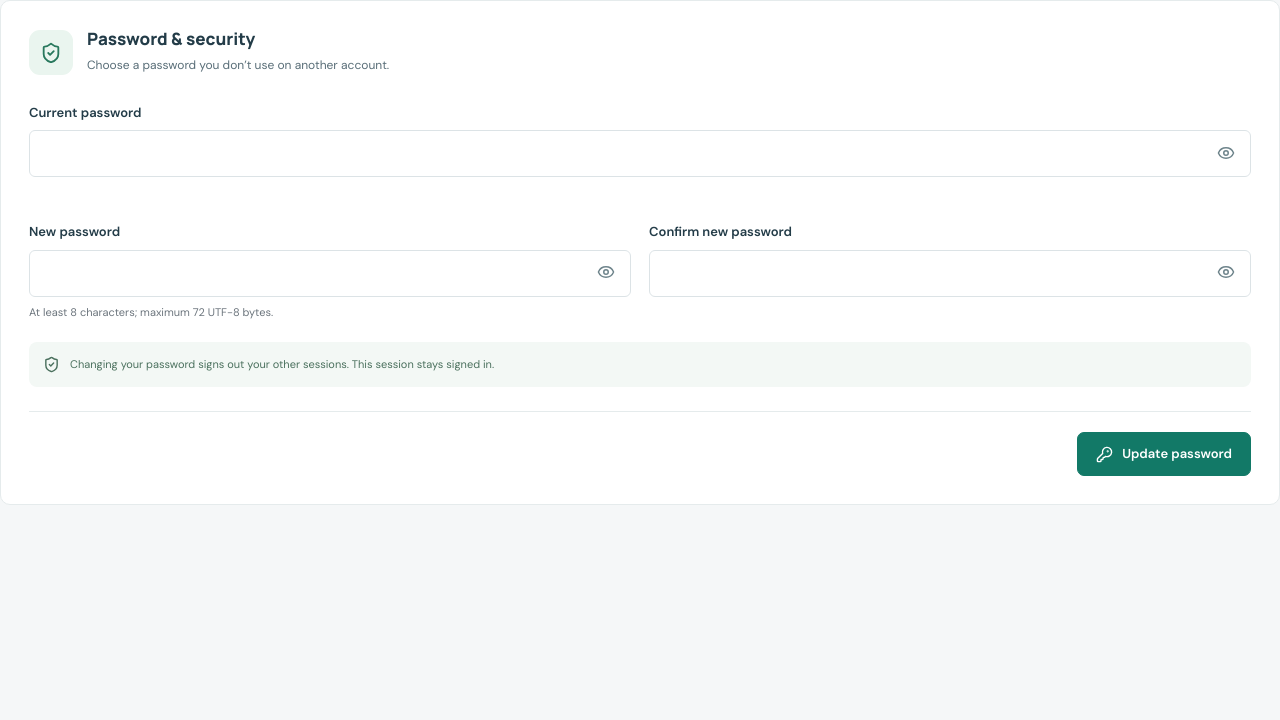
it: Personal details and account security forms › clears password fields after success and shows confirmation
In the password field labelled "Current password": (640, 154) [29,130,1251,177], type "current-password"
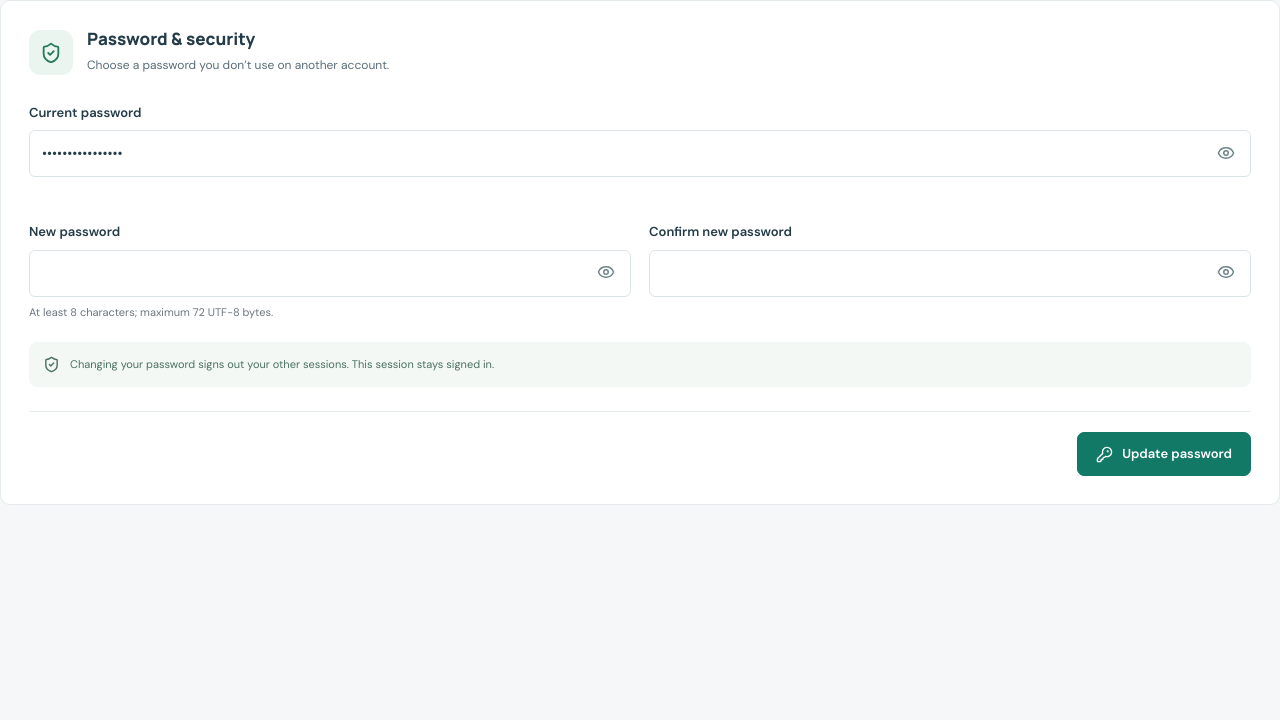
In the password field labelled "New password": (330, 273) [29,250,631,297], type "new-password-123"
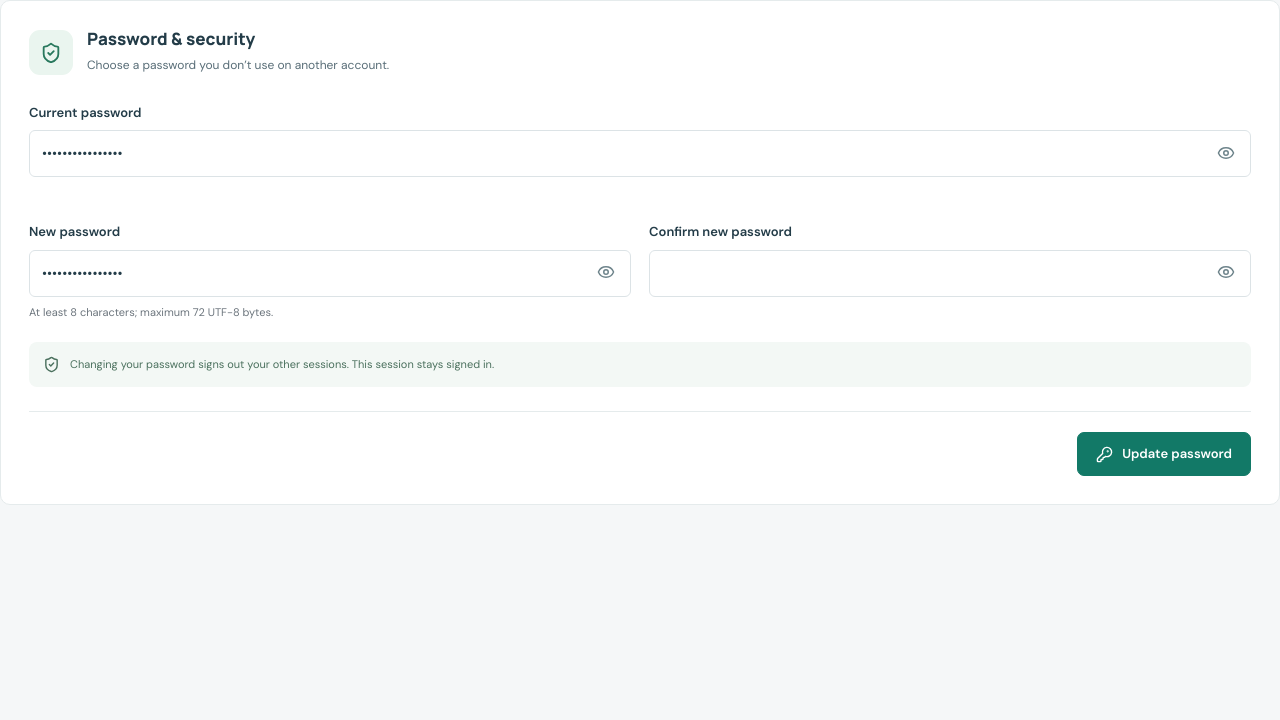
In the password field labelled "Confirm new password": (950, 273) [649,250,1251,297], type "new-password-123"
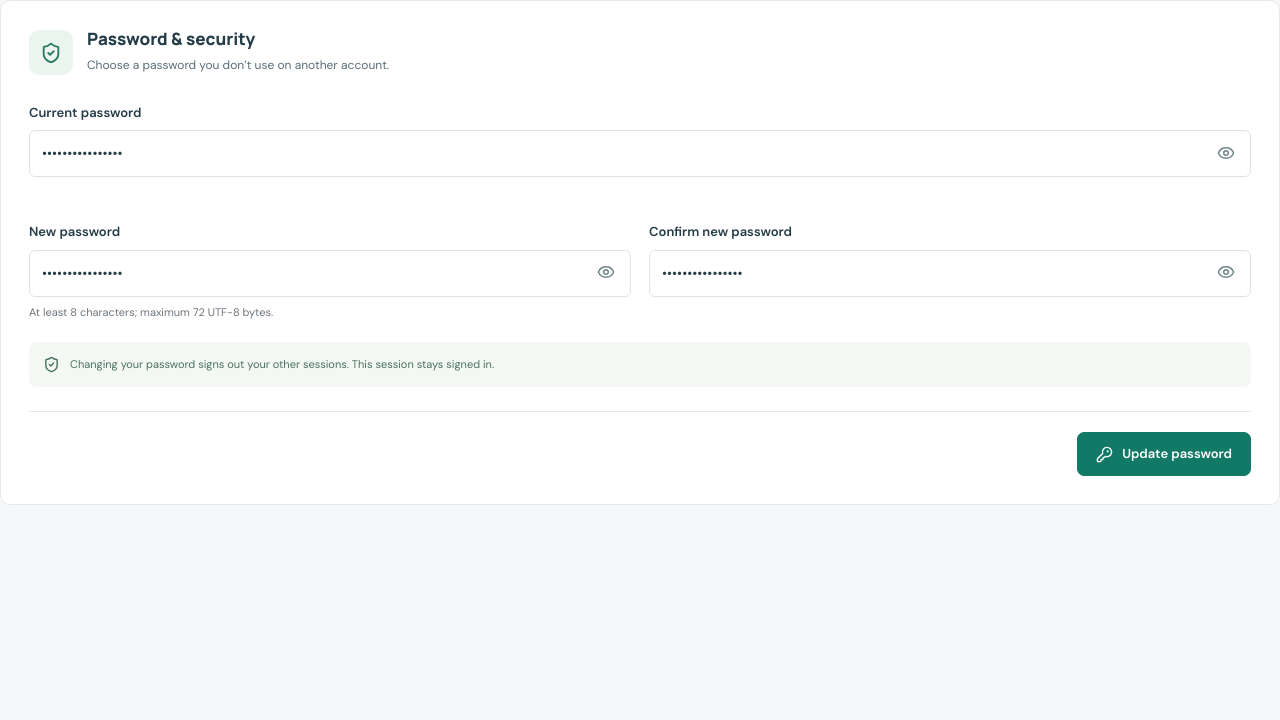
Click the button "Update password": (1164, 454) [1077,432,1251,476]
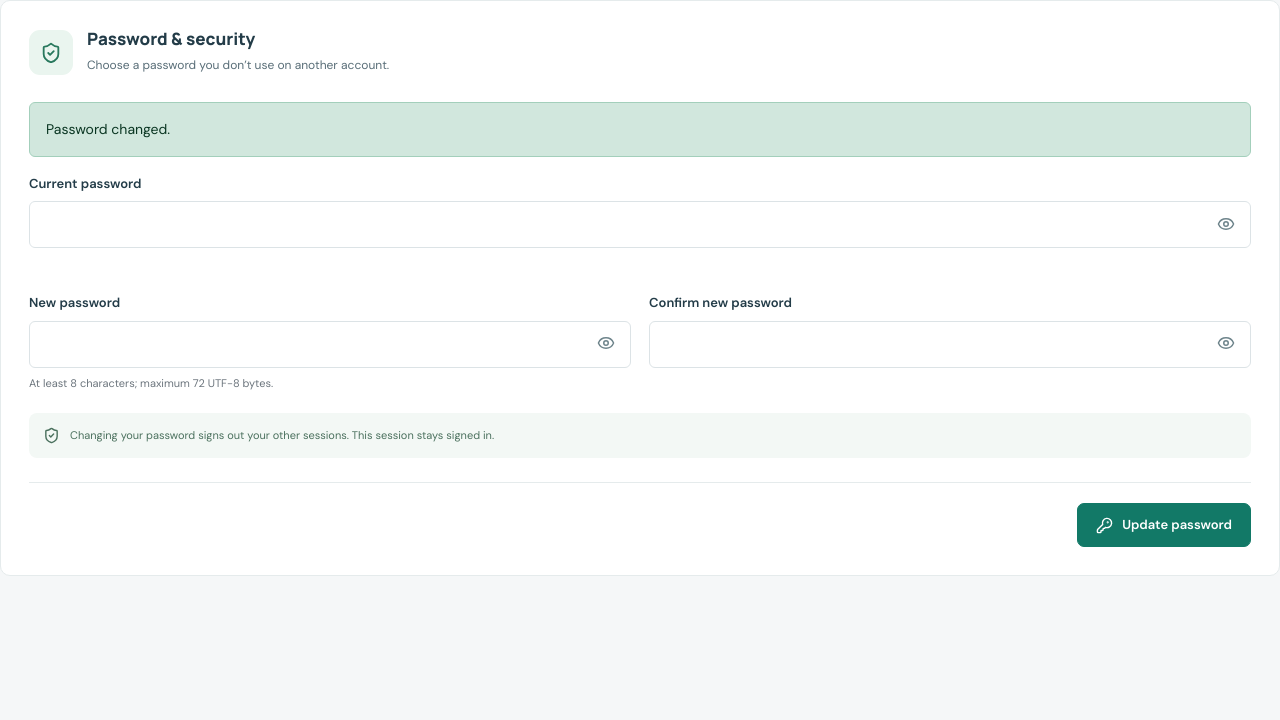
Result: the message reads "Password changed." at [46,120,170,138]
Result: the password field labelled "Current password" is empty at [29,201,1251,248]
